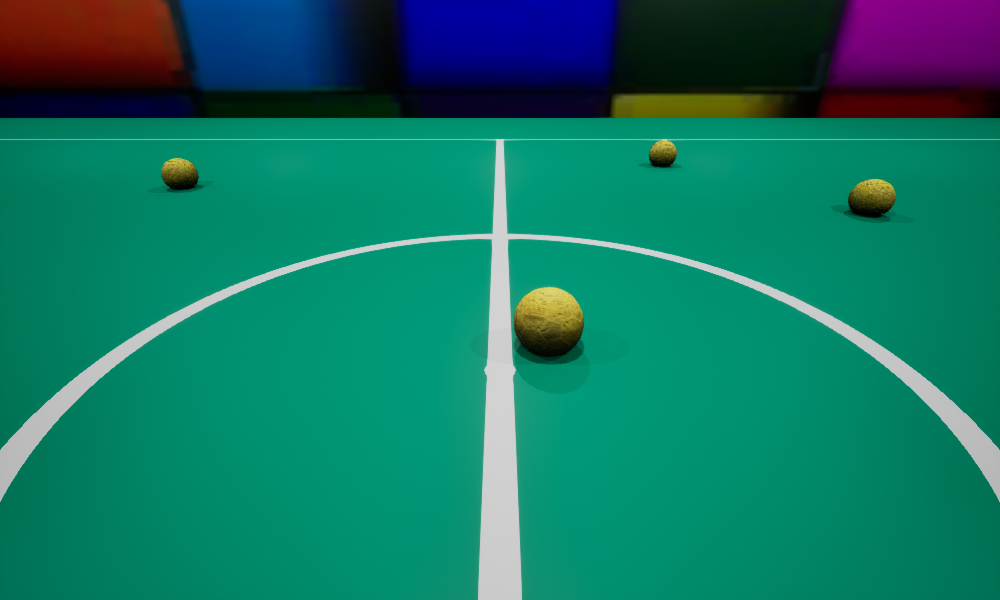b: (514, 287, 583, 355), (848, 179, 895, 216), (161, 158, 198, 189), (649, 140, 676, 166)
